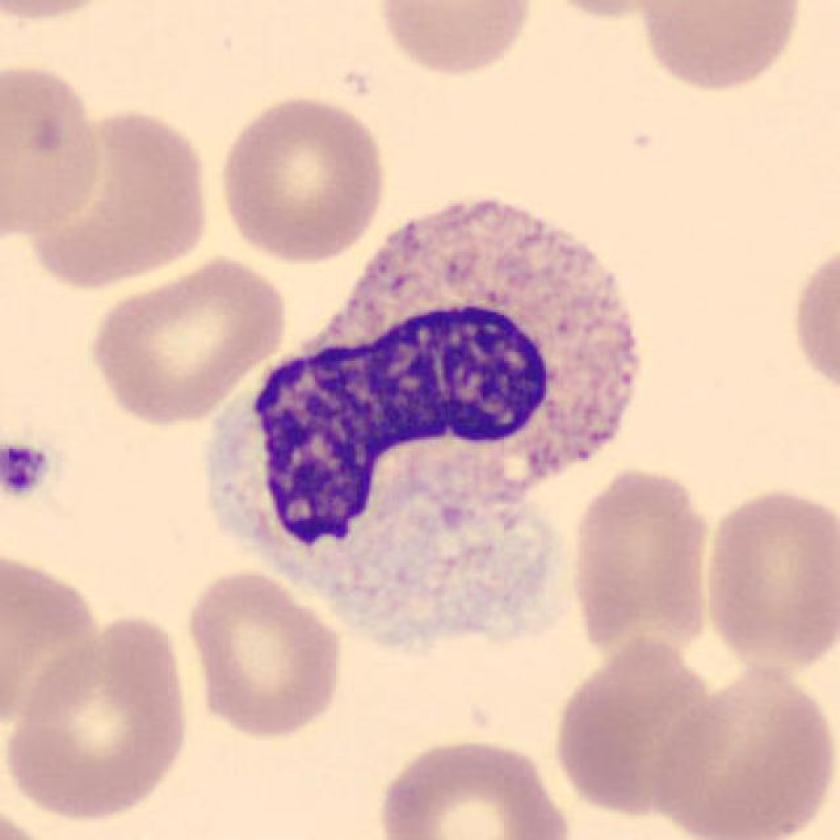neutrophil: (207, 201, 640, 648)
